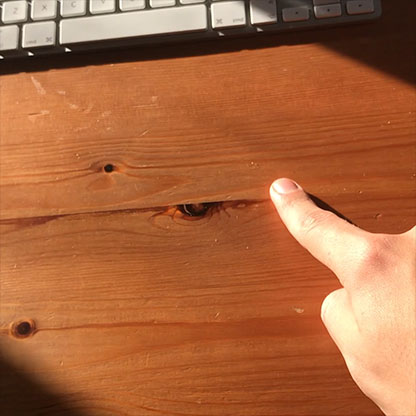fingertip: (261, 170, 308, 209)
